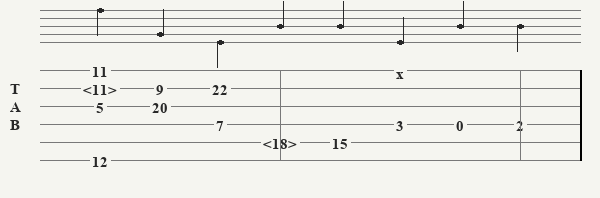0: (456, 117, 468, 131)
11: (92, 63, 112, 77)
12: (92, 153, 112, 167)
15: (332, 135, 352, 149)
2: (516, 117, 528, 131)
20: (152, 99, 172, 113)
22: (212, 81, 232, 95)
3: (396, 117, 408, 131)
5: (96, 99, 108, 113)
7: (216, 117, 228, 131)
9: (156, 81, 168, 95)
harmonic: (83, 81, 121, 95), (263, 135, 301, 149)
x: (396, 65, 408, 76)
